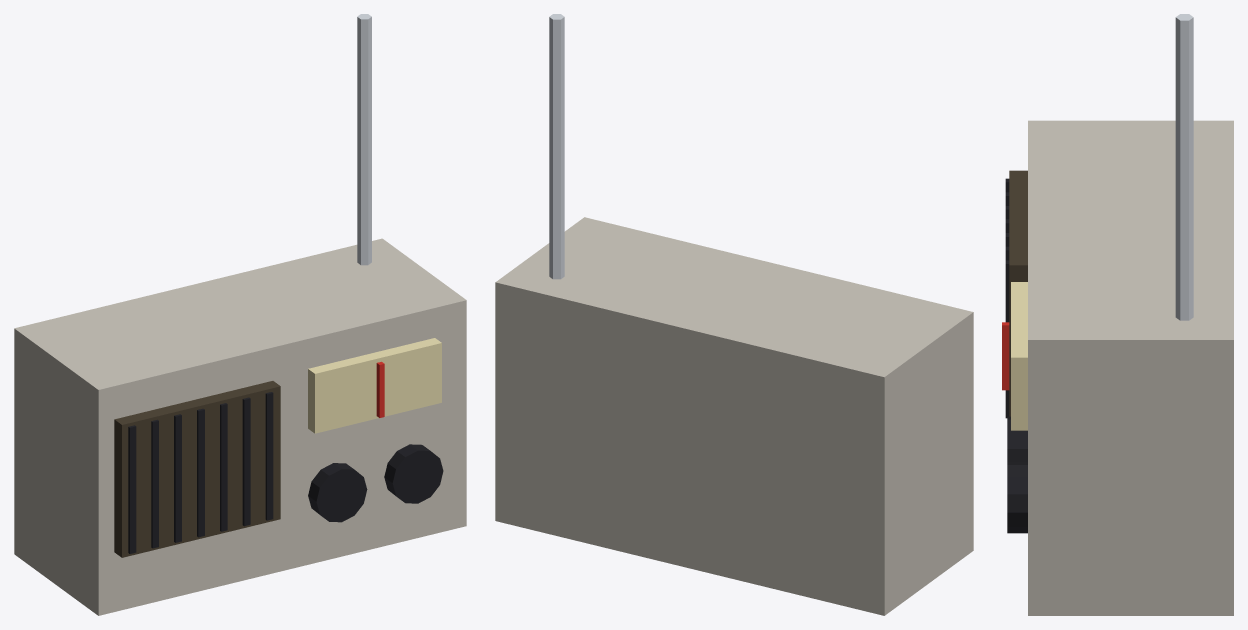
The model's file is radio.glb.
3 views of the same model, side by side, from view 1: azimuth 30°, elevation 25°; view 2: azimuth 150°, elevation 25°; view 3: azimuth 270°, elevation 25° (orthographic). The views are drawn at different scales.
Parts seen in each view (by area): view 1: radio; view 2: radio; view 3: radio.
Part boxes in pixels (x1,y1,x2,y2): radio: (14,14,466,615); radio: (495,14,973,615); radio: (1002,14,1233,615).
Size of the model in its own units: 0.29 by 0.355 by 0.1295.
